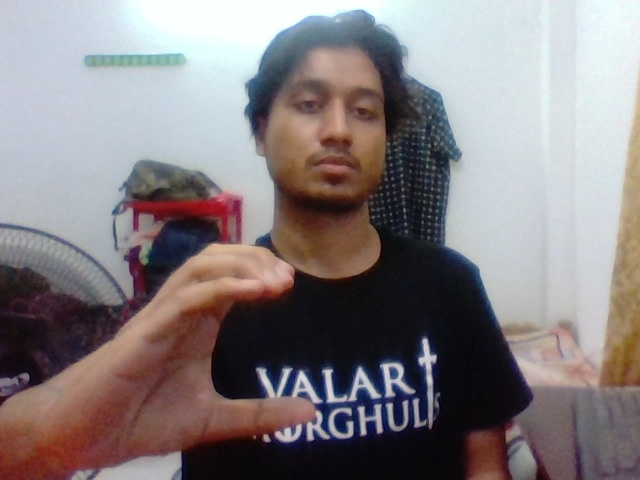C: (123, 226, 340, 442)
